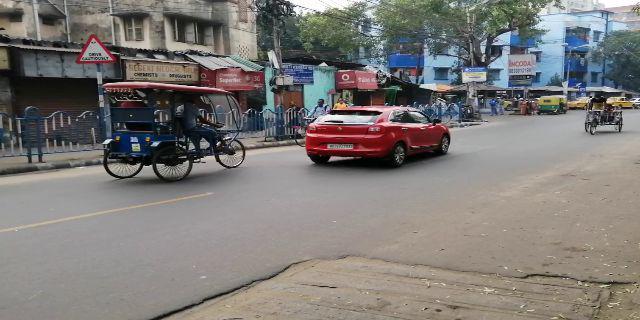Car: (305, 107, 455, 174)
Rickshaw: (98, 77, 252, 186), (580, 105, 624, 132)
